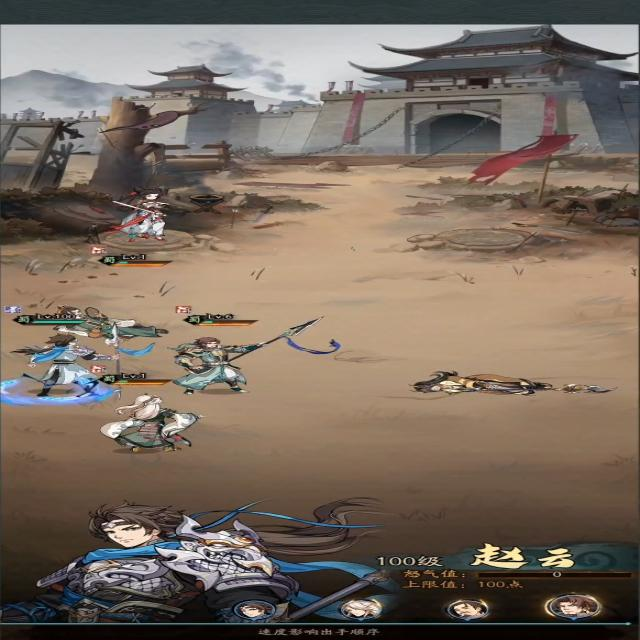hint-guide: (251, 626, 386, 638)
